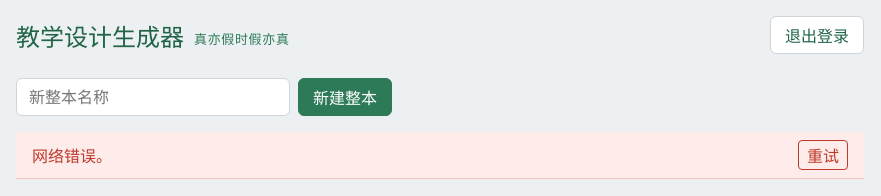
it: BookListPage › shows an error and allows retry when loading fails
Step 1. Click the button with test id "retry" → [823, 155], box [798,140,848,170]
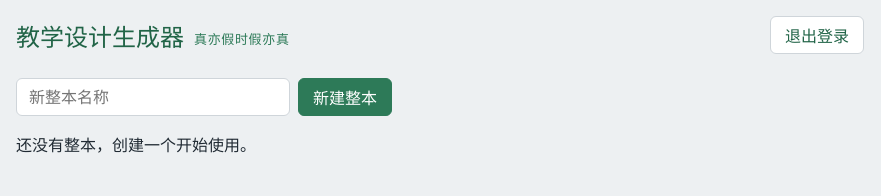
Now the text "还没有整本" is shown, box [16,135,256,155]
